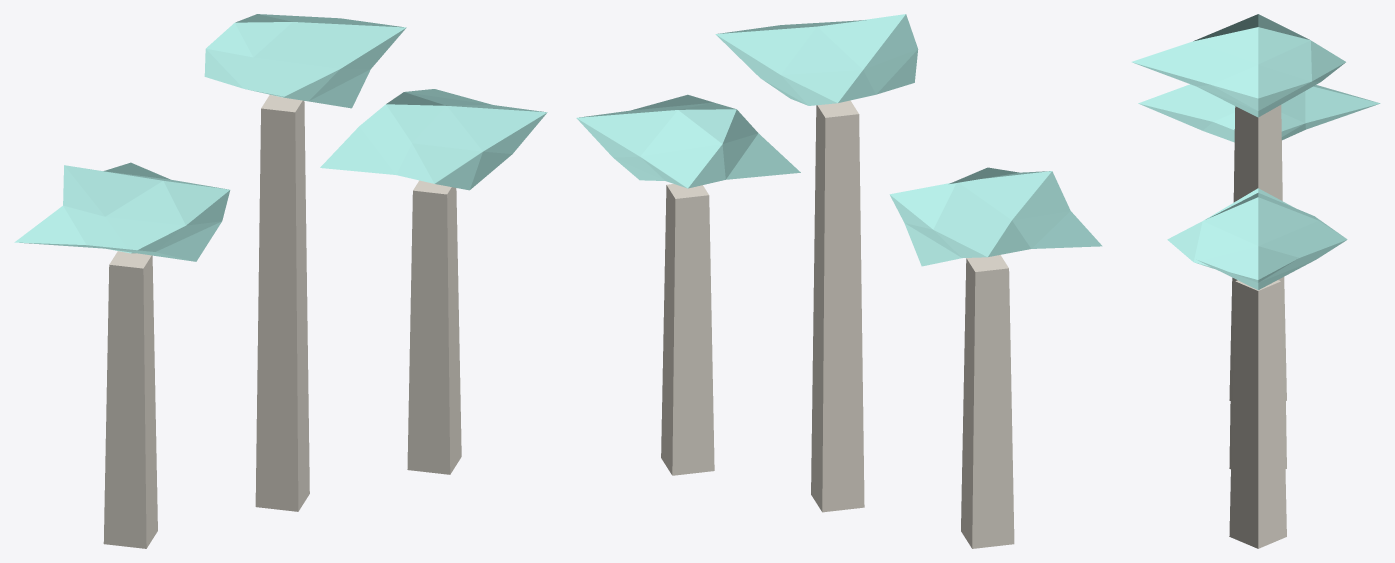
The model's file is glowcap_v13.glb.
The picture shows the model from 3 angles, left to right: view 1: azimuth 30°, elevation 25°; view 2: azimuth 150°, elevation 25°; view 3: azimuth 270°, elevation 25°; orthographic projection. The views are drawn at different scales.
Parts seen in each view (by area): view 1: lod0; view 2: lod0; view 3: lod0.
Boxes of the visible parts, left/top/right/bottom form: lod0: left=14, top=14, right=547, bottom=548; lod0: left=576, top=14, right=1102, bottom=548; lod0: left=1131, top=14, right=1380, bottom=548.
Size of what is drawn, in the model's own units: 0.4918 by 0.424 by 0.2173.
